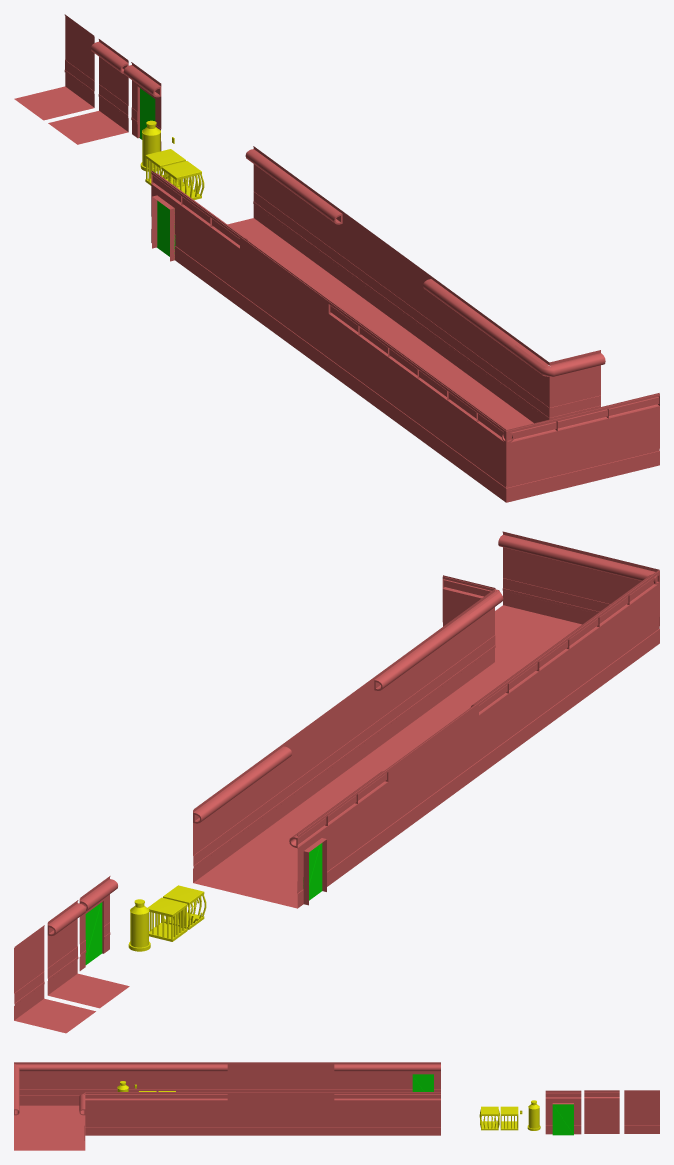
File: Combined.fbx
The picture shows the model from 3 angles, top to bottom: view 1: azimuth 30°, elevation 25°; view 2: azimuth 150°, elevation 25°; view 3: azimuth 270°, elevation 25°; orthographic projection. The views are drawn at different scales.
Parts seen in each view (by area): view 1: WallCornerOut1, Wall105, Wall108, Wall107, PipeWall13, BareWallFloor7, PipeWall11, PipeWall, PipeWall10, BareWallFloor1, PipeWall3, PipeWall1 (+18 smaller); view 2: WallCornerOut1, Wall108, Wall107, PipeWall13, PipeWall, BareWallFloor7, PipeWall10, PipeWall9, PipeWall1, PipeWall11, PipeWall3, BareWallFloor5 (+20 smaller); view 3: WallCornerOut1, PipeWall7, PipeWall4, BareWallFloor1, PipeWall13, BareWallFloor7, PipeWall1, PipeWall3, BareWallFloor3, BareWallFloor5, PipeWall, PipeWall10 (+21 smaller).
Part boxes in pixels (bbox=[...]): WallCornerOut1: bbox=[494, 341, 605, 429]; Wall105: bbox=[501, 418, 557, 502]; Wall108: bbox=[607, 393, 659, 477]; Wall107: bbox=[556, 405, 608, 489]; PipeWall13: bbox=[48, 39, 128, 144]; BareWallFloor7: bbox=[14, 14, 94, 120]; PipeWall11: bbox=[285, 189, 342, 289]; PipeWall: bbox=[227, 146, 283, 246]; PipeWall10: bbox=[256, 168, 312, 267]; BareWallFloor1: bbox=[315, 211, 371, 310]; PipeWall3: bbox=[434, 297, 490, 397]; PipeWall1: bbox=[405, 276, 460, 375]; WallCornerOut1: bbox=[442, 575, 551, 690]; Wall108: bbox=[495, 531, 555, 639]; Wall107: bbox=[525, 544, 607, 646]; PipeWall13: bbox=[47, 900, 129, 1008]; PipeWall: bbox=[193, 787, 275, 895]; BareWallFloor7: bbox=[14, 925, 95, 1033]; PipeWall10: bbox=[223, 765, 297, 873]; PipeWall9: bbox=[245, 790, 357, 908]; PipeWall1: bbox=[374, 655, 432, 757]; PipeWall11: bbox=[253, 743, 310, 849]; PipeWall3: bbox=[404, 633, 462, 735]; BareWallFloor5: bbox=[344, 677, 402, 778]; WallCornerOut1: bbox=[49, 1092, 120, 1150]; PipeWall7: bbox=[49, 1062, 85, 1120]; PipeWall4: bbox=[120, 1092, 156, 1135]; BareWallFloor1: bbox=[298, 1092, 334, 1135]; PipeWall13: bbox=[584, 1090, 619, 1133]; BareWallFloor7: bbox=[624, 1090, 659, 1133]; PipeWall1: bbox=[192, 1092, 227, 1135]; PipeWall3: bbox=[156, 1092, 191, 1135]; BareWallFloor3: bbox=[263, 1092, 298, 1135]; BareWallFloor5: bbox=[227, 1092, 262, 1135]; PipeWall: bbox=[405, 1092, 440, 1135]; PipeWall10: bbox=[370, 1092, 405, 1135].
Bounding box in the file's own units: 6.2 × 2.7 × 36.31.
